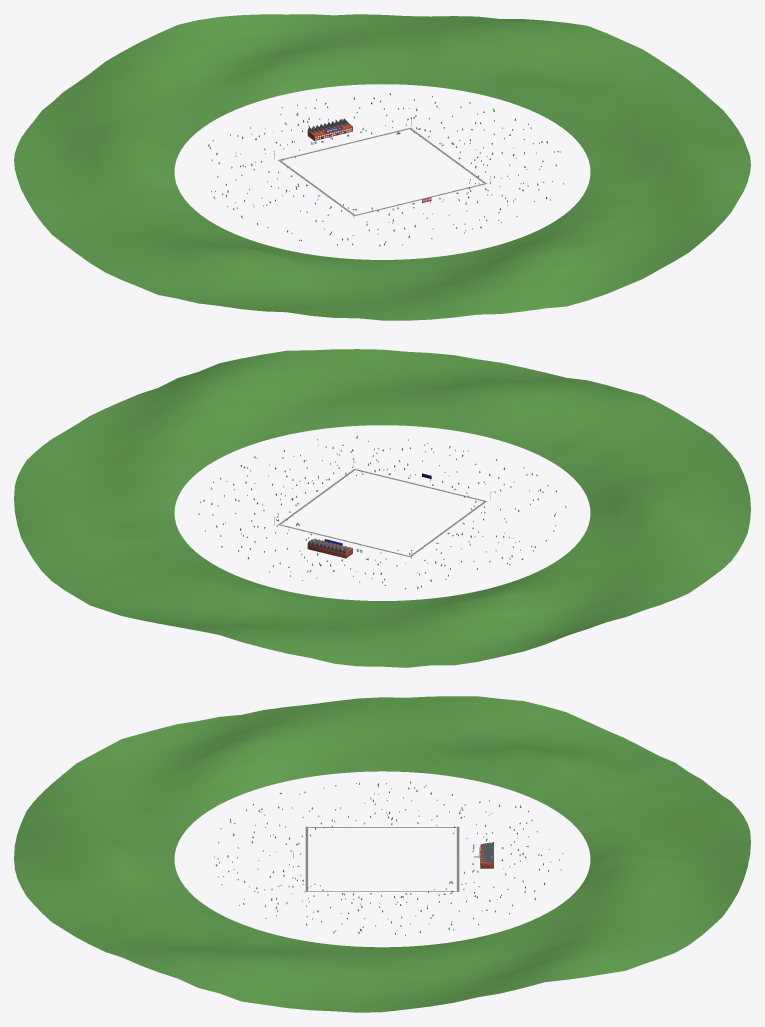
The model's file is map.glb.
3 views of the same model, one above another, from view 1: azimuth 30°, elevation 25°; view 2: azimuth 150°, elevation 25°; view 3: azimuth 270°, elevation 25° (orthographic).
Parts seen in each view (by area): view 1: Hills, Path, Factory; view 2: Hills, Path, Factory; view 3: Hills, Path.
Part boxes in pixels (x1,y1,x2,y2): Hills: [14, 14, 750, 320]; Path: [278, 127, 486, 216]; Factory: [307, 118, 352, 140]; Hills: [14, 349, 750, 667]; Path: [278, 469, 486, 557]; Factory: [307, 538, 352, 558]; Hills: [14, 696, 750, 1012]; Path: [305, 826, 459, 891].
Size of the model in its own units: 2480 by 66.56 by 2480.
